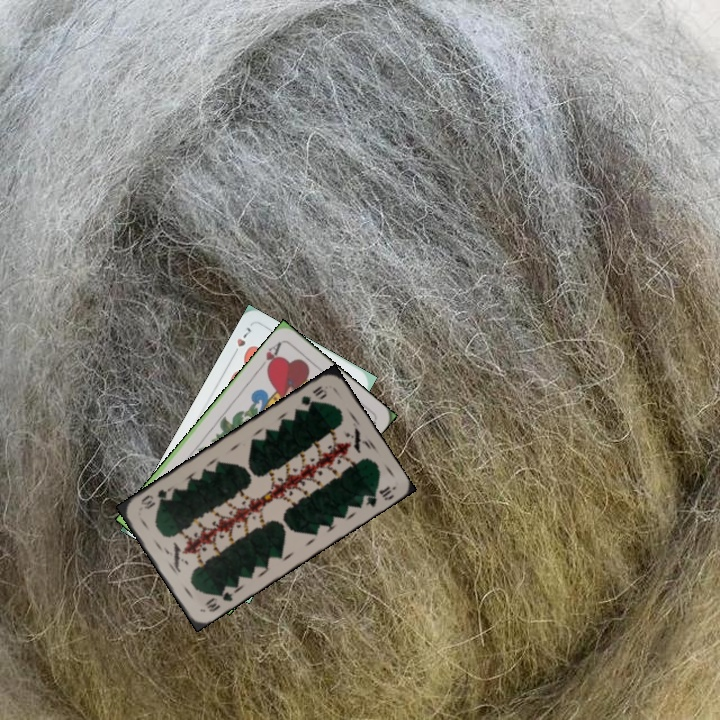G10: (202, 585, 235, 615), (297, 382, 330, 409)
H7: (228, 323, 254, 359)
HA: (254, 338, 284, 374)
